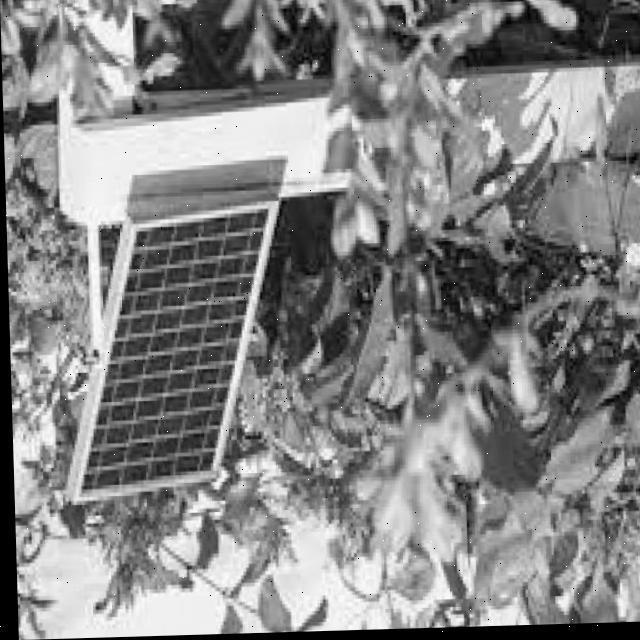Normal Solar Panel: (70, 201, 282, 494)
